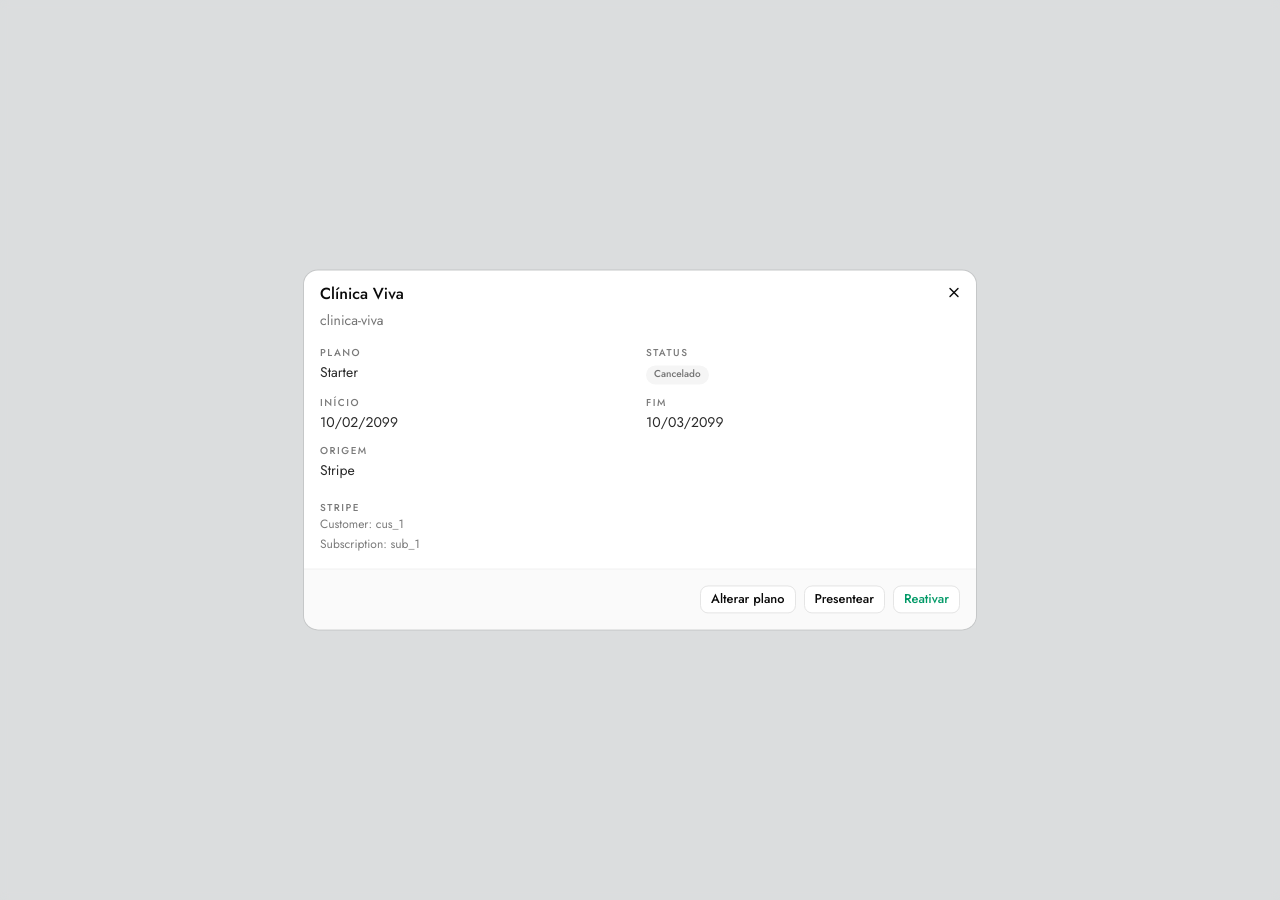
Test: SubscriptionDetailDialog on a Stripe subscription › offers the reactivation as a grant when Stripe already ended the subscription
The image size is (1280, 900).
Step 1. Click the button "Reativar" → (926, 600), box [893,586,960,614]
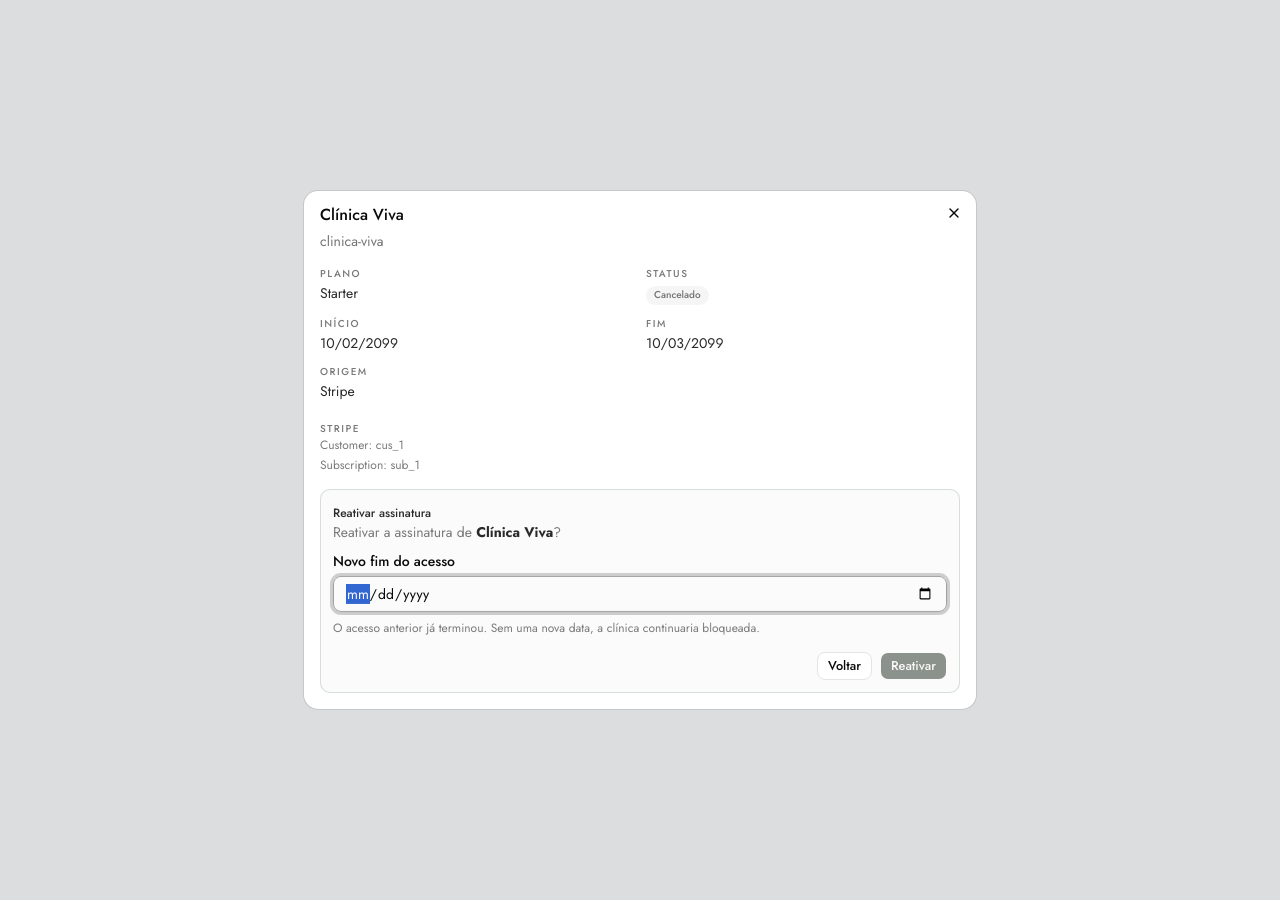
Check: the date field with test id "admin-new-period-end" is shown, box [333,576,947,612]
